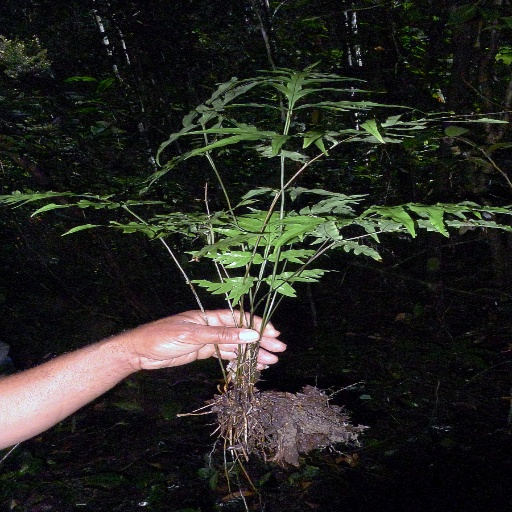hand: (4, 302, 235, 469)
